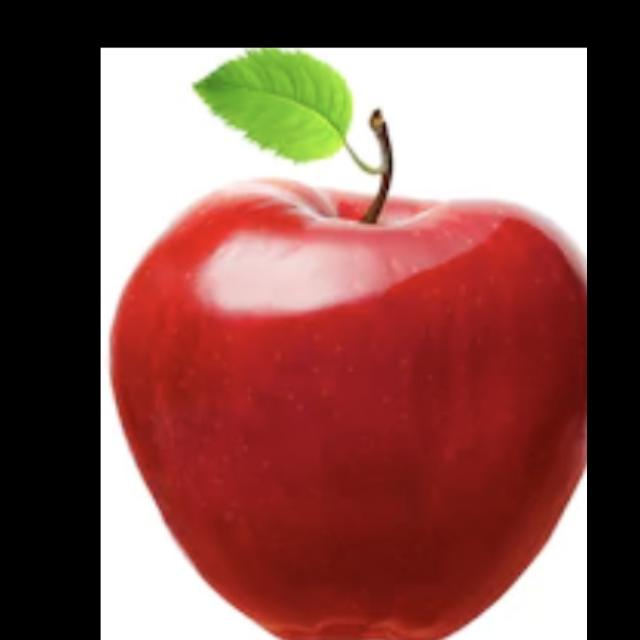Apel Segar: (108, 180, 588, 640)
